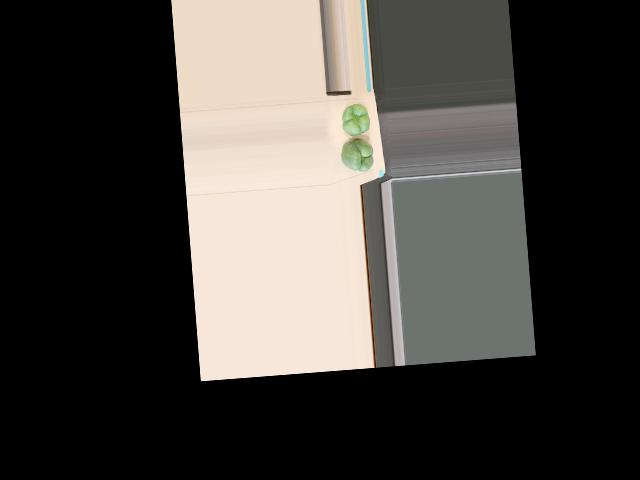bell_pepper: (336, 103, 371, 138)
